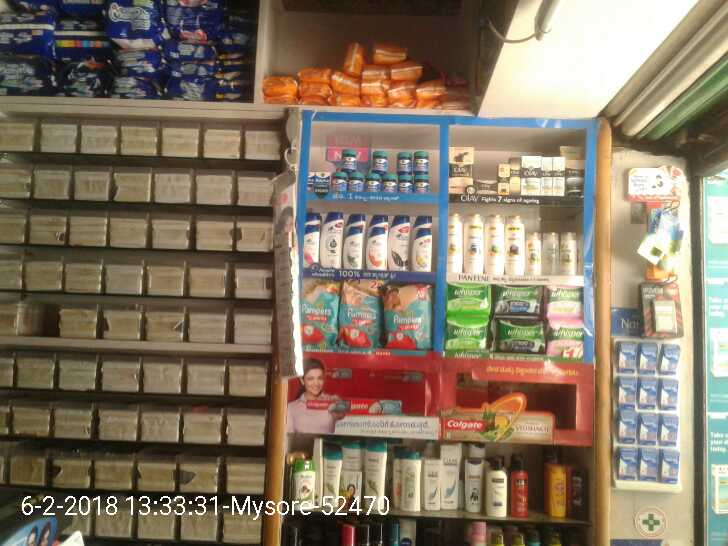beauty: (447, 147, 477, 198), (444, 210, 465, 277), (503, 214, 525, 276), (320, 211, 342, 271), (482, 210, 502, 275), (462, 216, 483, 274), (389, 215, 409, 272), (409, 225, 431, 272), (364, 226, 386, 271), (519, 152, 540, 197), (302, 223, 322, 269), (341, 225, 362, 268), (558, 230, 577, 277), (541, 231, 557, 276), (524, 233, 539, 277), (495, 159, 511, 198), (539, 154, 553, 195), (554, 157, 567, 195), (473, 180, 497, 197)
pharmacy: (379, 282, 432, 349), (336, 279, 379, 353), (300, 280, 341, 350), (497, 317, 547, 351), (544, 319, 585, 359), (446, 318, 490, 351), (445, 282, 489, 314), (493, 287, 541, 316), (545, 286, 581, 313), (370, 147, 389, 173), (339, 148, 359, 170), (411, 151, 429, 174), (346, 172, 366, 192), (331, 170, 348, 193), (309, 169, 331, 186), (396, 149, 410, 173), (413, 174, 430, 193), (382, 172, 397, 193), (365, 172, 379, 194), (399, 174, 412, 194)
